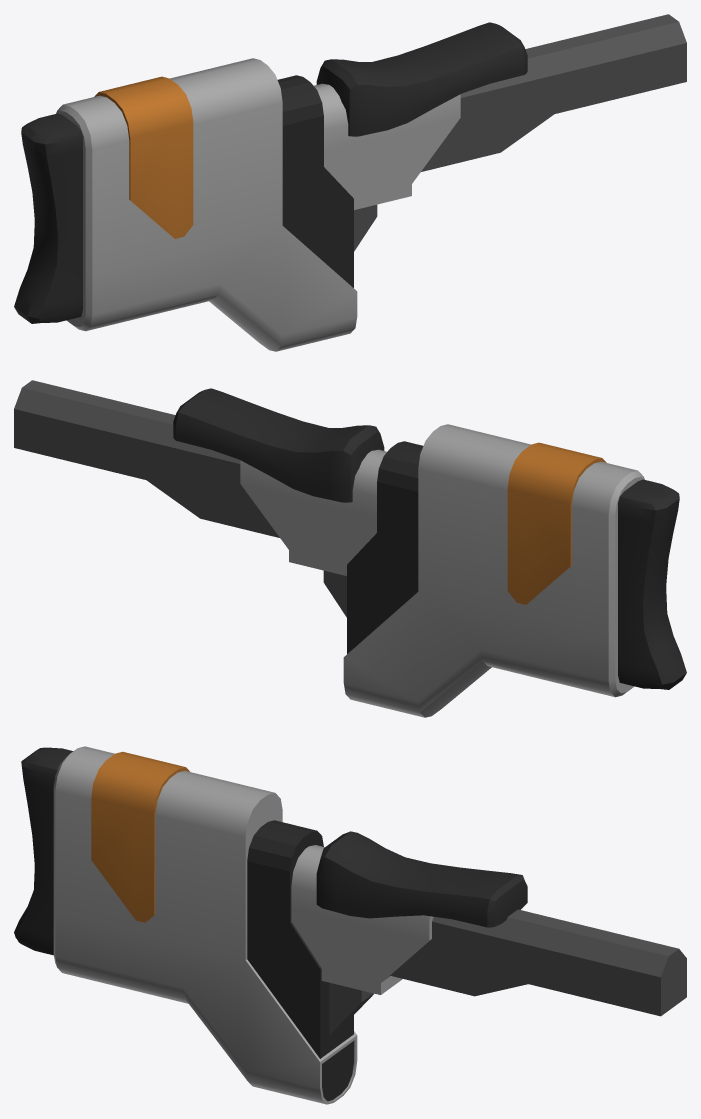
Rendered from Stock_2.glb.
3 views of the same model, one above another, from view 1: azimuth 30°, elevation 25°; view 2: azimuth 150°, elevation 25°; view 3: azimuth 330°, elevation 25° (orthographic).
Visible parts, largest first — view 1: Stock_2; view 2: Stock_2; view 3: Stock_2.
Boxes of the visible parts, x1,y1,x2,y2 form: Stock_2: [14, 14, 686, 351]; Stock_2: [14, 380, 686, 717]; Stock_2: [14, 746, 686, 1104].
Bounding box in the file's own units: 1.12 × 0.4686 × 0.1155.
